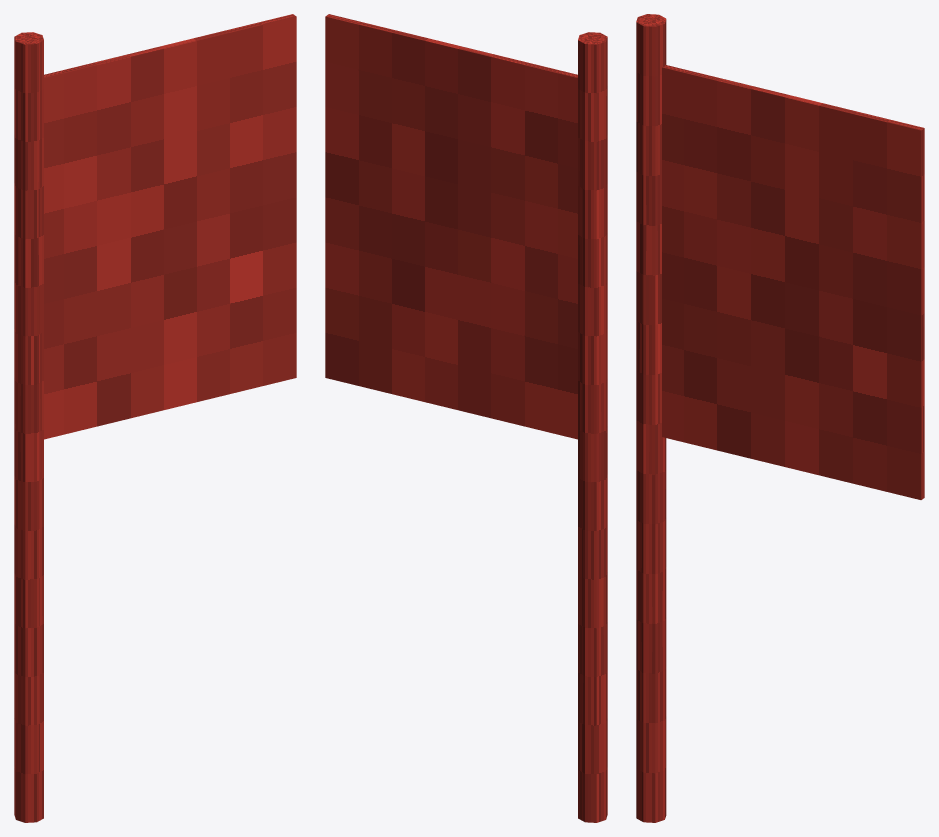
File: banner_45.glb
The picture shows the model from 3 angles, left to right: view 1: azimuth 30°, elevation 25°; view 2: azimuth 150°, elevation 25°; view 3: azimuth 330°, elevation 25°; orthographic projection. The views are drawn at different scales.
Parts seen in each view (by area): view 1: Cloth, Pole; view 2: Cloth, Pole; view 3: Cloth, Pole.
Part boxes in pixels (x1,y1,x2,y2): Cloth: (44,14,296,439); Pole: (14,32,43,822); Cloth: (325,14,577,439); Pole: (578,32,607,822); Cloth: (662,65,924,499); Pole: (636,14,666,822).
Size of the model in its own units: 1.16 by 3.08 by 0.11.
Materials: 1 (1 with a texture image).
